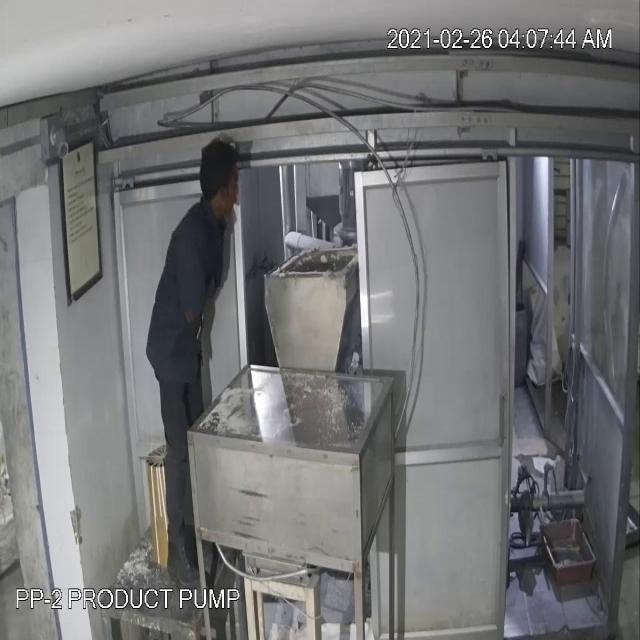no-helmet: (199, 132, 243, 192)
